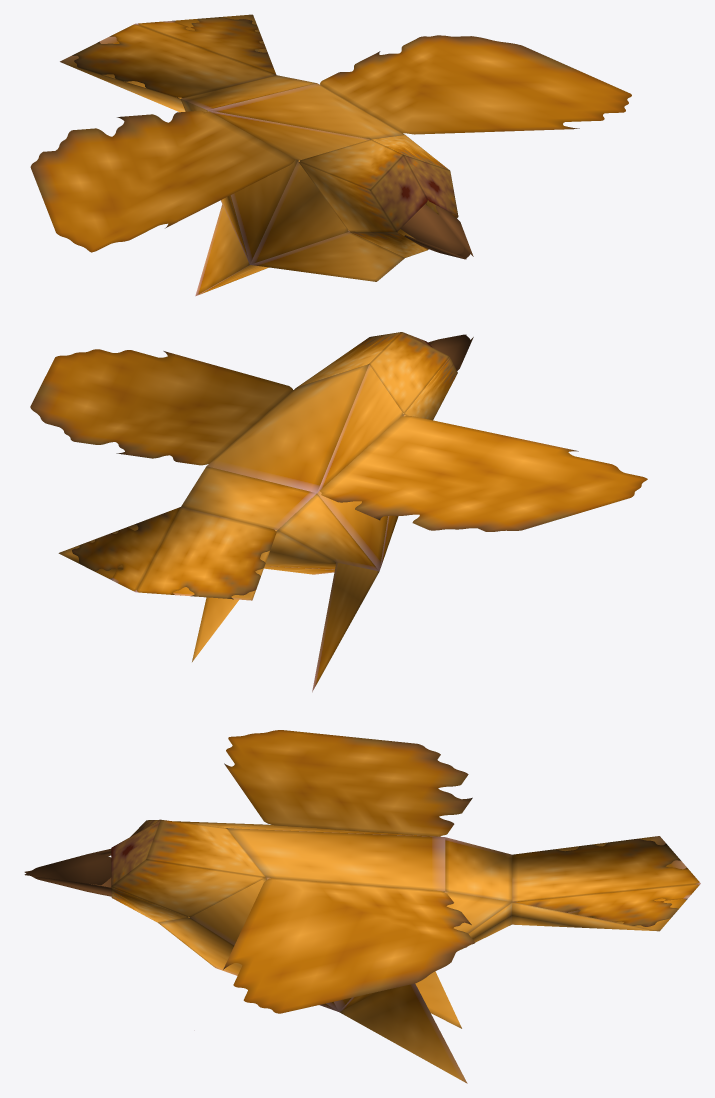
The picture shows the model from 3 angles, top to bottom: view 1: azimuth 30°, elevation 25°; view 2: azimuth 150°, elevation 25°; view 3: azimuth 270°, elevation 25°; orthographic projection.
Visible parts, largest first — view 1: T1L8M001_15; view 2: T1L8M001_15; view 3: T1L8M001_15.
Part boxes in pixels (box(x1,y1,x2,y2)): T1L8M001_15: box(30, 14, 631, 296); T1L8M001_15: box(30, 332, 647, 692); T1L8M001_15: box(24, 730, 700, 1083).
Size of the model in its own units: 0.8681 by 0.3119 by 0.8136.
